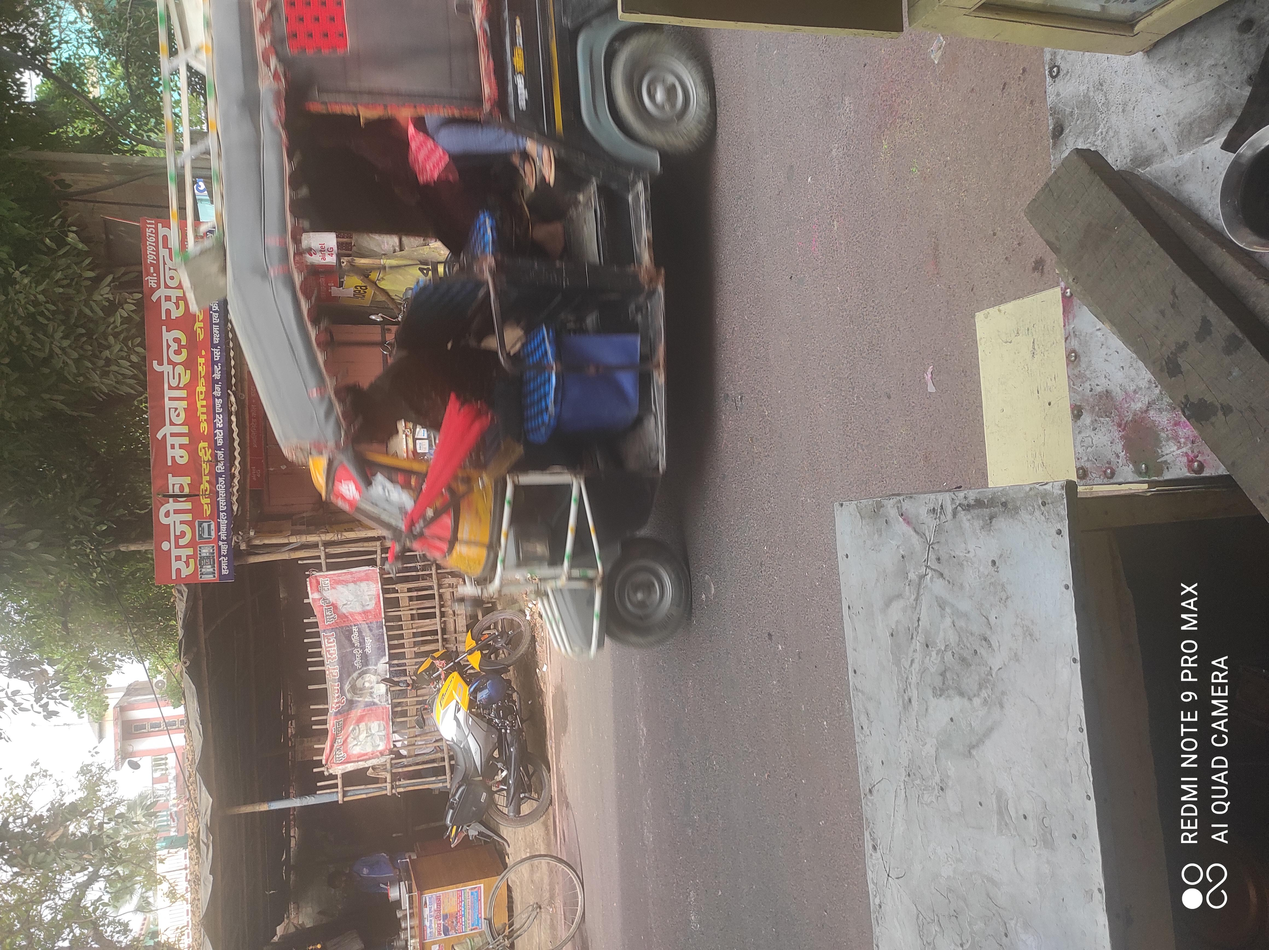Auto: (358, 143, 1269, 565)
